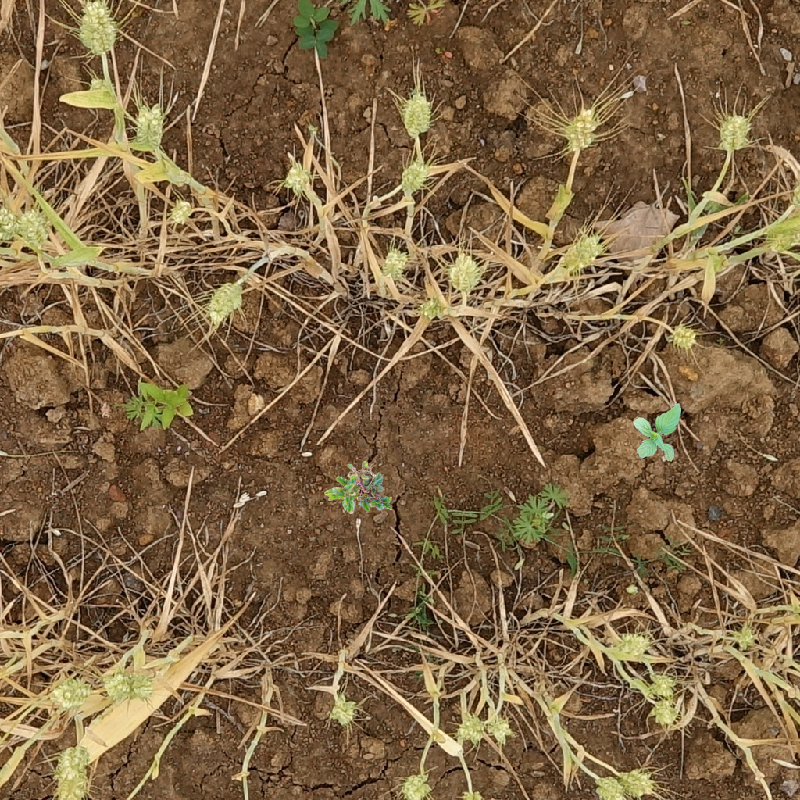spikelet: (76, 1, 118, 55), (52, 744, 92, 800), (558, 230, 604, 272), (204, 279, 244, 325), (562, 105, 600, 152), (131, 101, 166, 151), (399, 89, 434, 138), (103, 668, 153, 702), (716, 110, 752, 154), (47, 675, 91, 710), (446, 251, 482, 293), (763, 217, 799, 254), (610, 629, 652, 660), (18, 207, 50, 247), (398, 158, 431, 195), (620, 766, 656, 798), (665, 320, 699, 352), (454, 712, 487, 744), (328, 693, 358, 726), (282, 162, 312, 194), (381, 246, 409, 280), (593, 774, 628, 800), (650, 697, 680, 727), (166, 196, 196, 226), (399, 772, 432, 799), (486, 711, 513, 744), (648, 671, 678, 697), (417, 295, 448, 320), (733, 623, 757, 649), (1, 205, 18, 241)
weed: (123, 380, 195, 433), (324, 461, 392, 514), (513, 486, 566, 544), (633, 403, 681, 462), (289, 1, 341, 55), (405, 1, 450, 26), (351, 1, 397, 25)
